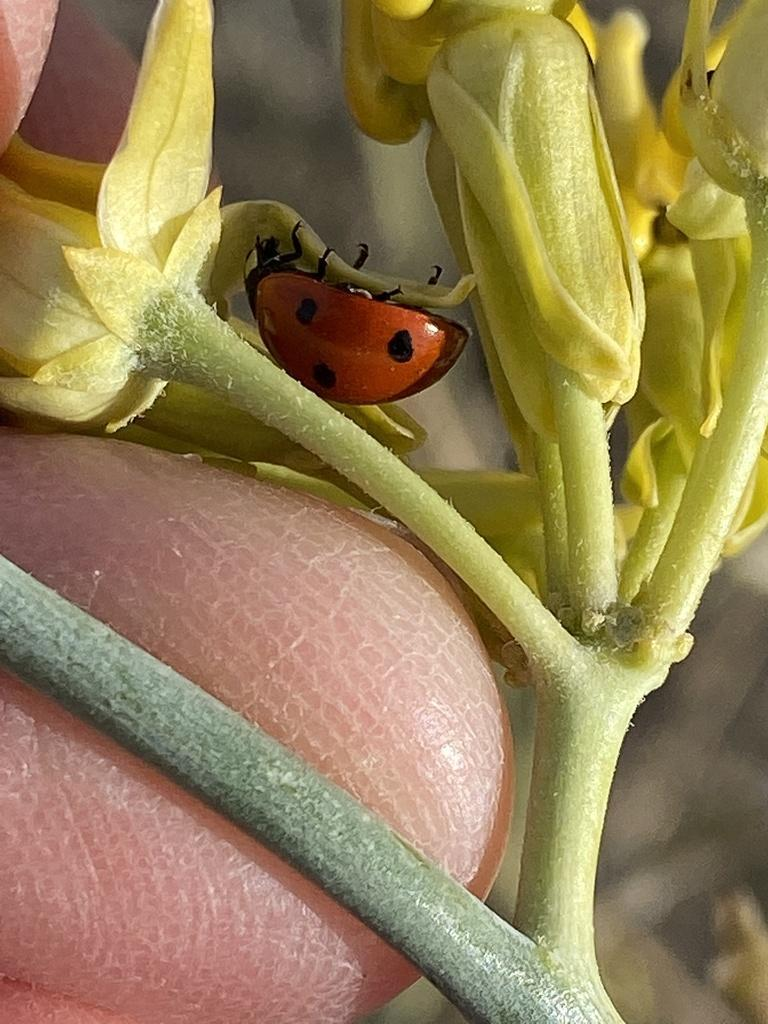ladybug: (239, 216, 476, 409)
